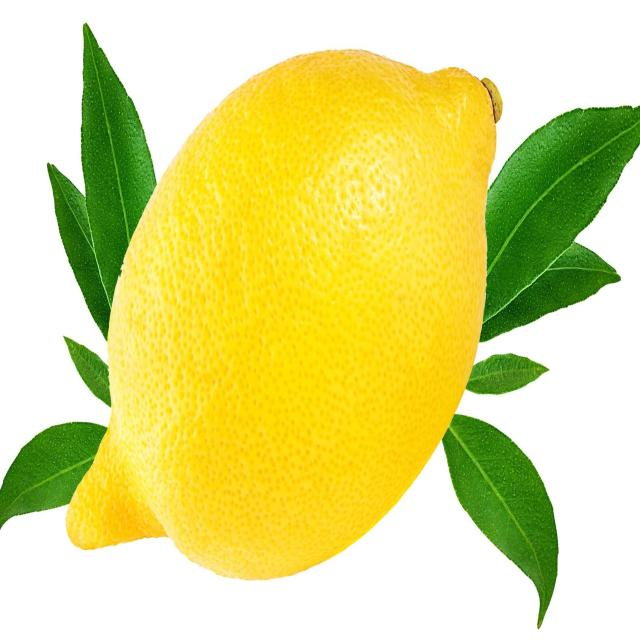lemon: (64, 39, 508, 589)
